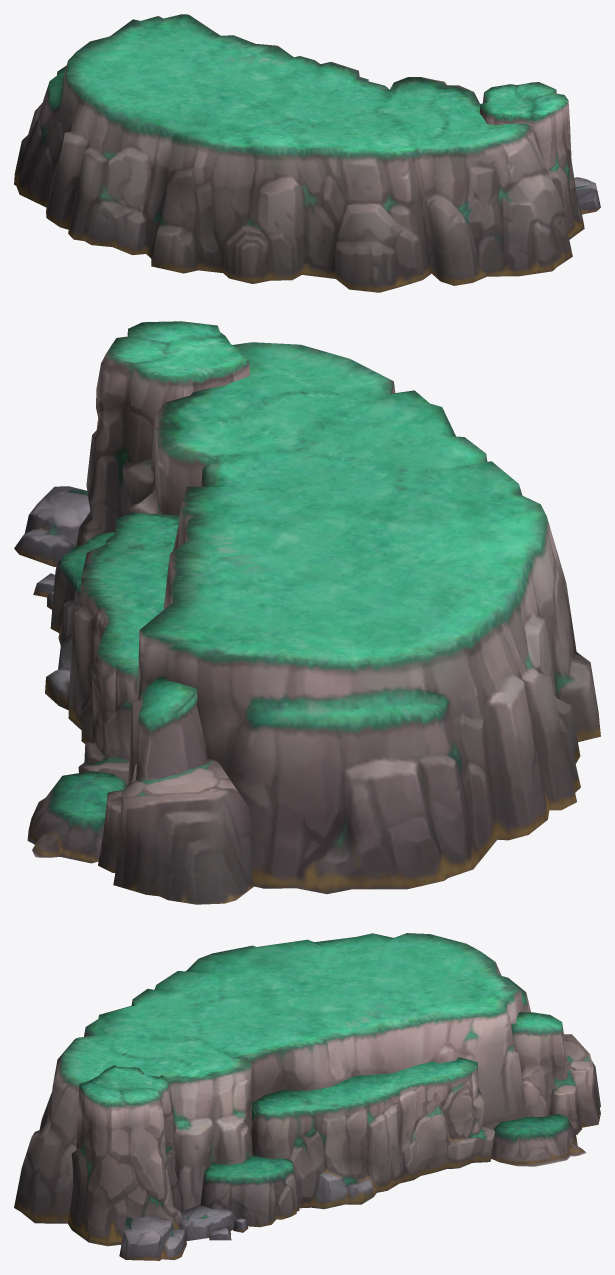
The model's file is yanshi4.fbx.
3 renders of one model, top to bottom at view 1: azimuth 30°, elevation 25°; view 2: azimuth 150°, elevation 25°; view 3: azimuth 270°, elevation 25°, orthographic. The views are drawn at different scales.
Visible parts, largest first — view 1: yanshi4; view 2: yanshi4; view 3: yanshi4.
Boxes of the visible parts, x1,y1,x2,y2 form: yanshi4: (14, 14, 600, 292); yanshi4: (14, 321, 600, 904); yanshi4: (14, 933, 600, 1260).
Size of the model in its own units: 4022 by 1141 by 4511.
